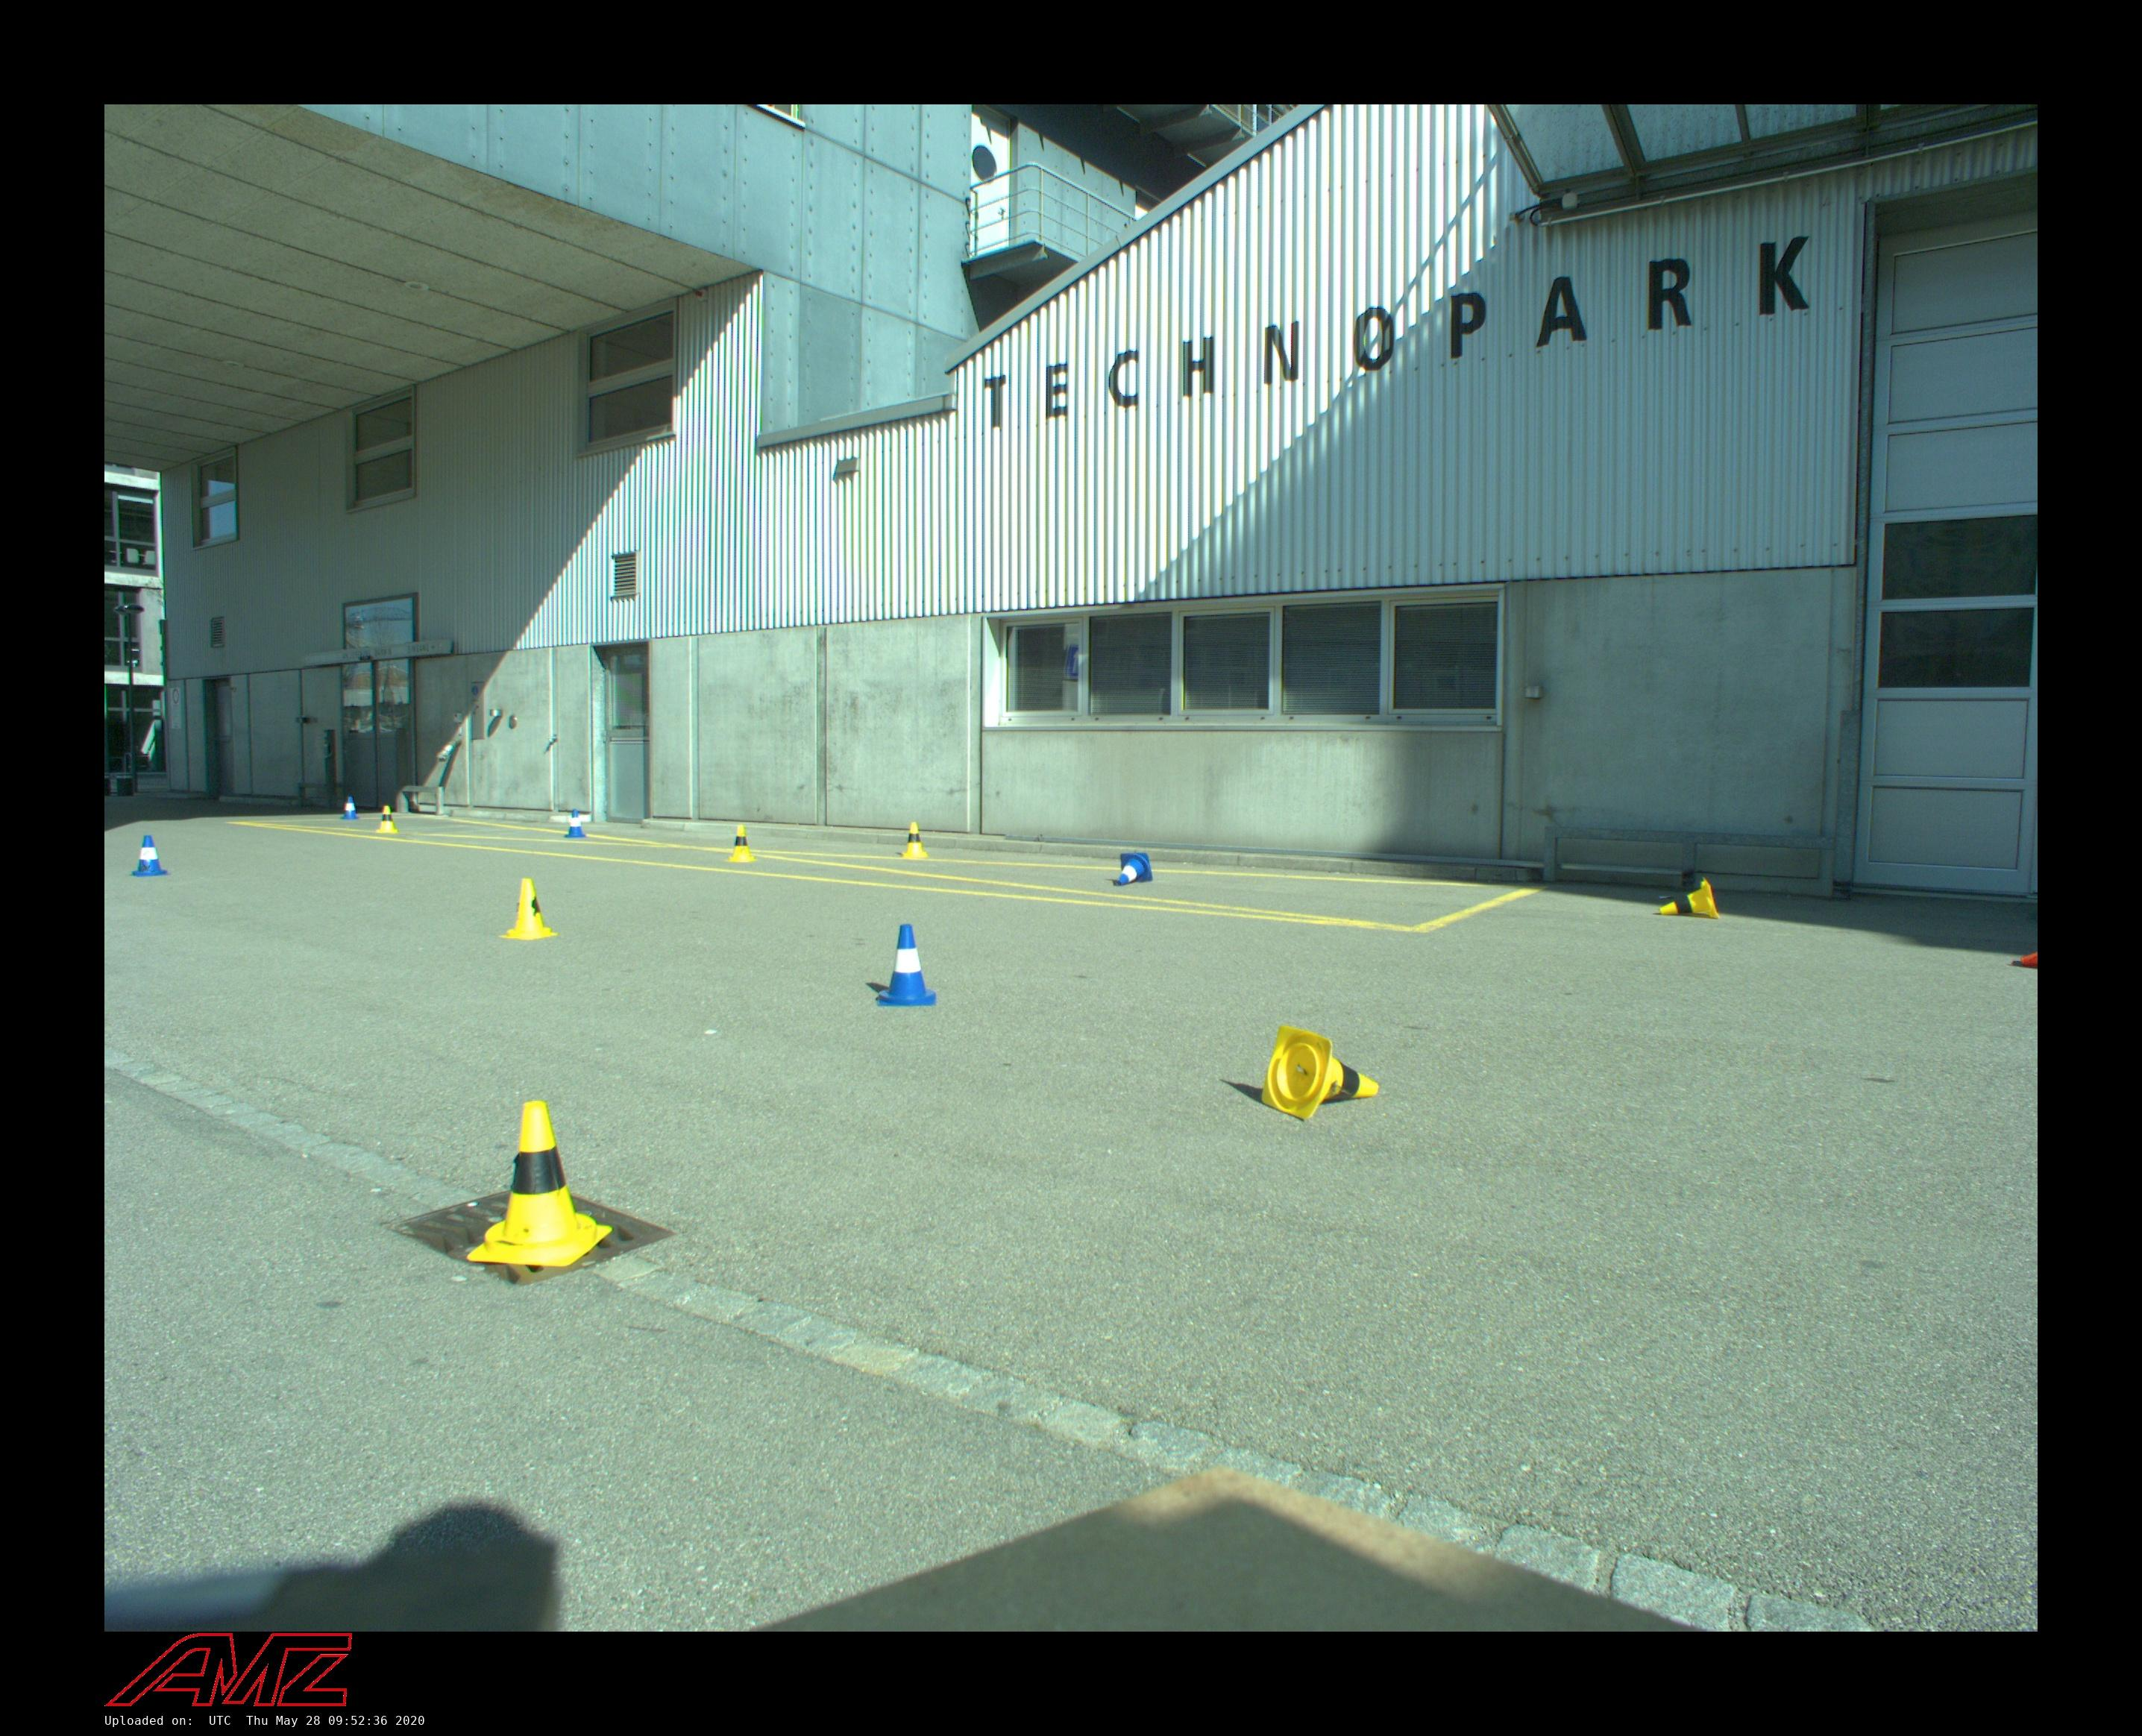blue_cone: (877, 925, 935, 1006), (129, 834, 168, 877), (1116, 852, 1153, 886), (565, 810, 586, 838), (340, 797, 360, 820)
yellow_cone: (468, 1100, 613, 1267), (1261, 1024, 1378, 1120), (500, 879, 558, 939), (1658, 877, 1719, 919), (725, 824, 758, 863), (902, 822, 928, 859), (377, 806, 399, 834)
